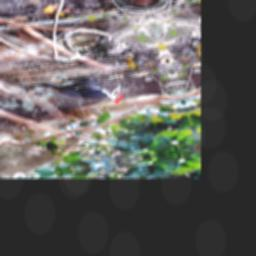Woodpecker: (31, 70, 129, 119)
